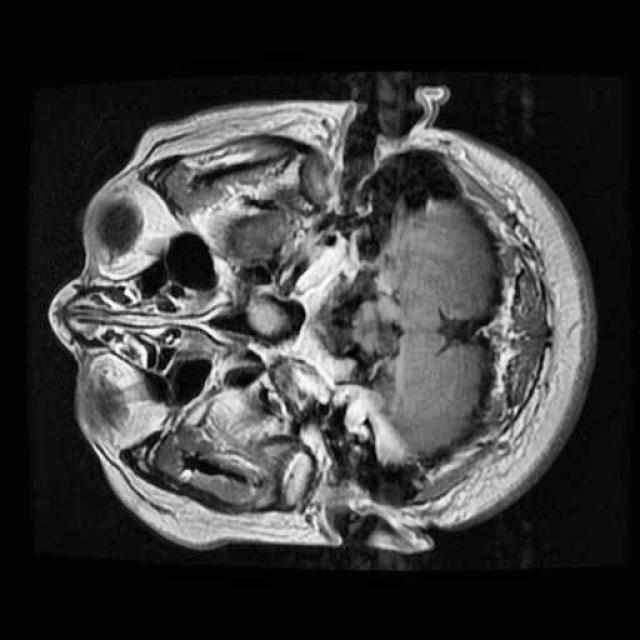Tumor: (241, 288, 296, 355)
